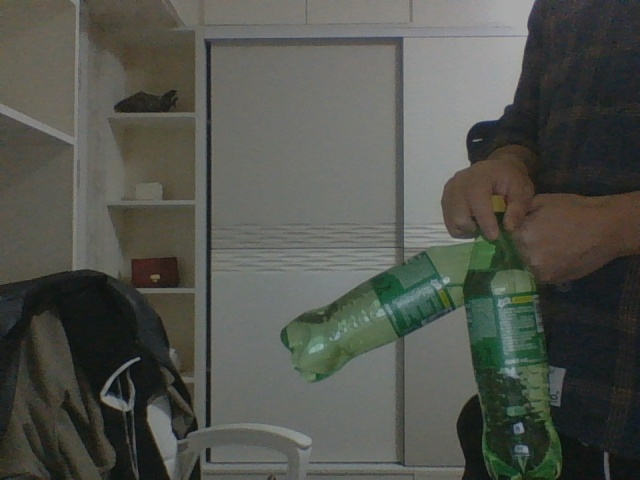Sprite: (461, 198, 563, 476), (279, 244, 470, 383)
